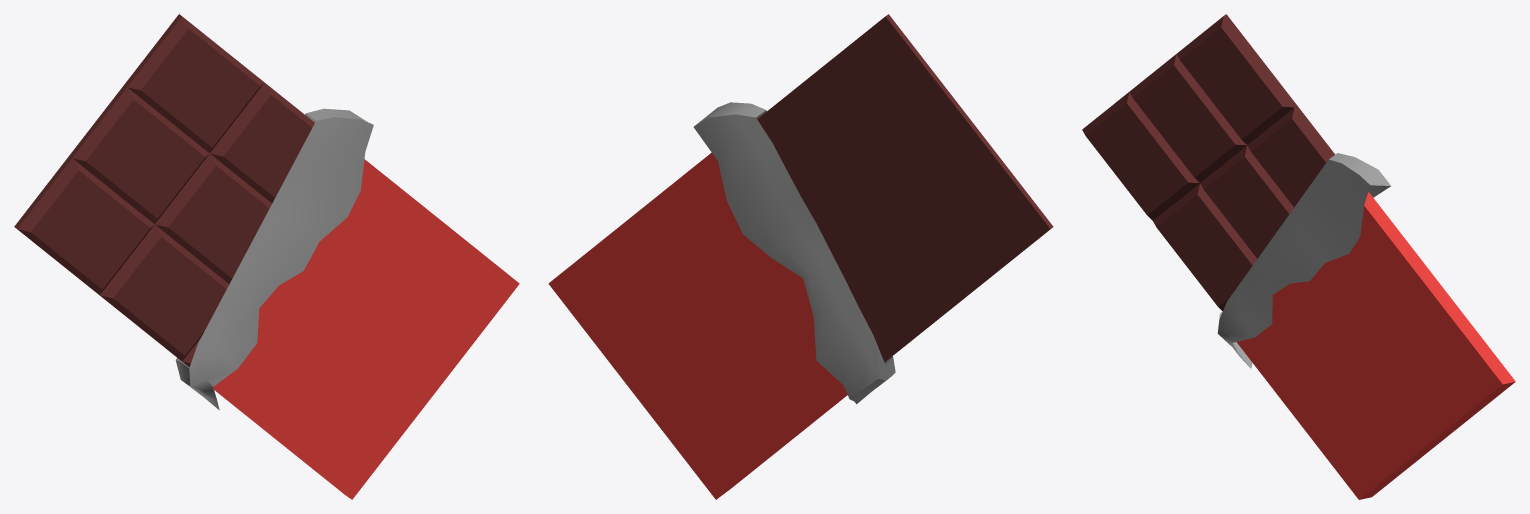
File: chocolate_bar.glb
The picture shows the model from 3 angles, left to right: view 1: azimuth 30°, elevation 25°; view 2: azimuth 150°, elevation 25°; view 3: azimuth 330°, elevation 25°; orthographic projection. The views are drawn at different scales.
Parts seen in each view (by area): view 1: Plane.220; view 2: Plane.220; view 3: Plane.220.
Boxes of the visible parts, <box> form: Plane.220: <box>14,14,519,499</box>; Plane.220: <box>548,14,1053,499</box>; Plane.220: <box>1082,14,1515,499</box>.
Size of the model in its own units: 2.32 by 2.31 by 0.1529.
Materials: 1 (1 with a texture image).
